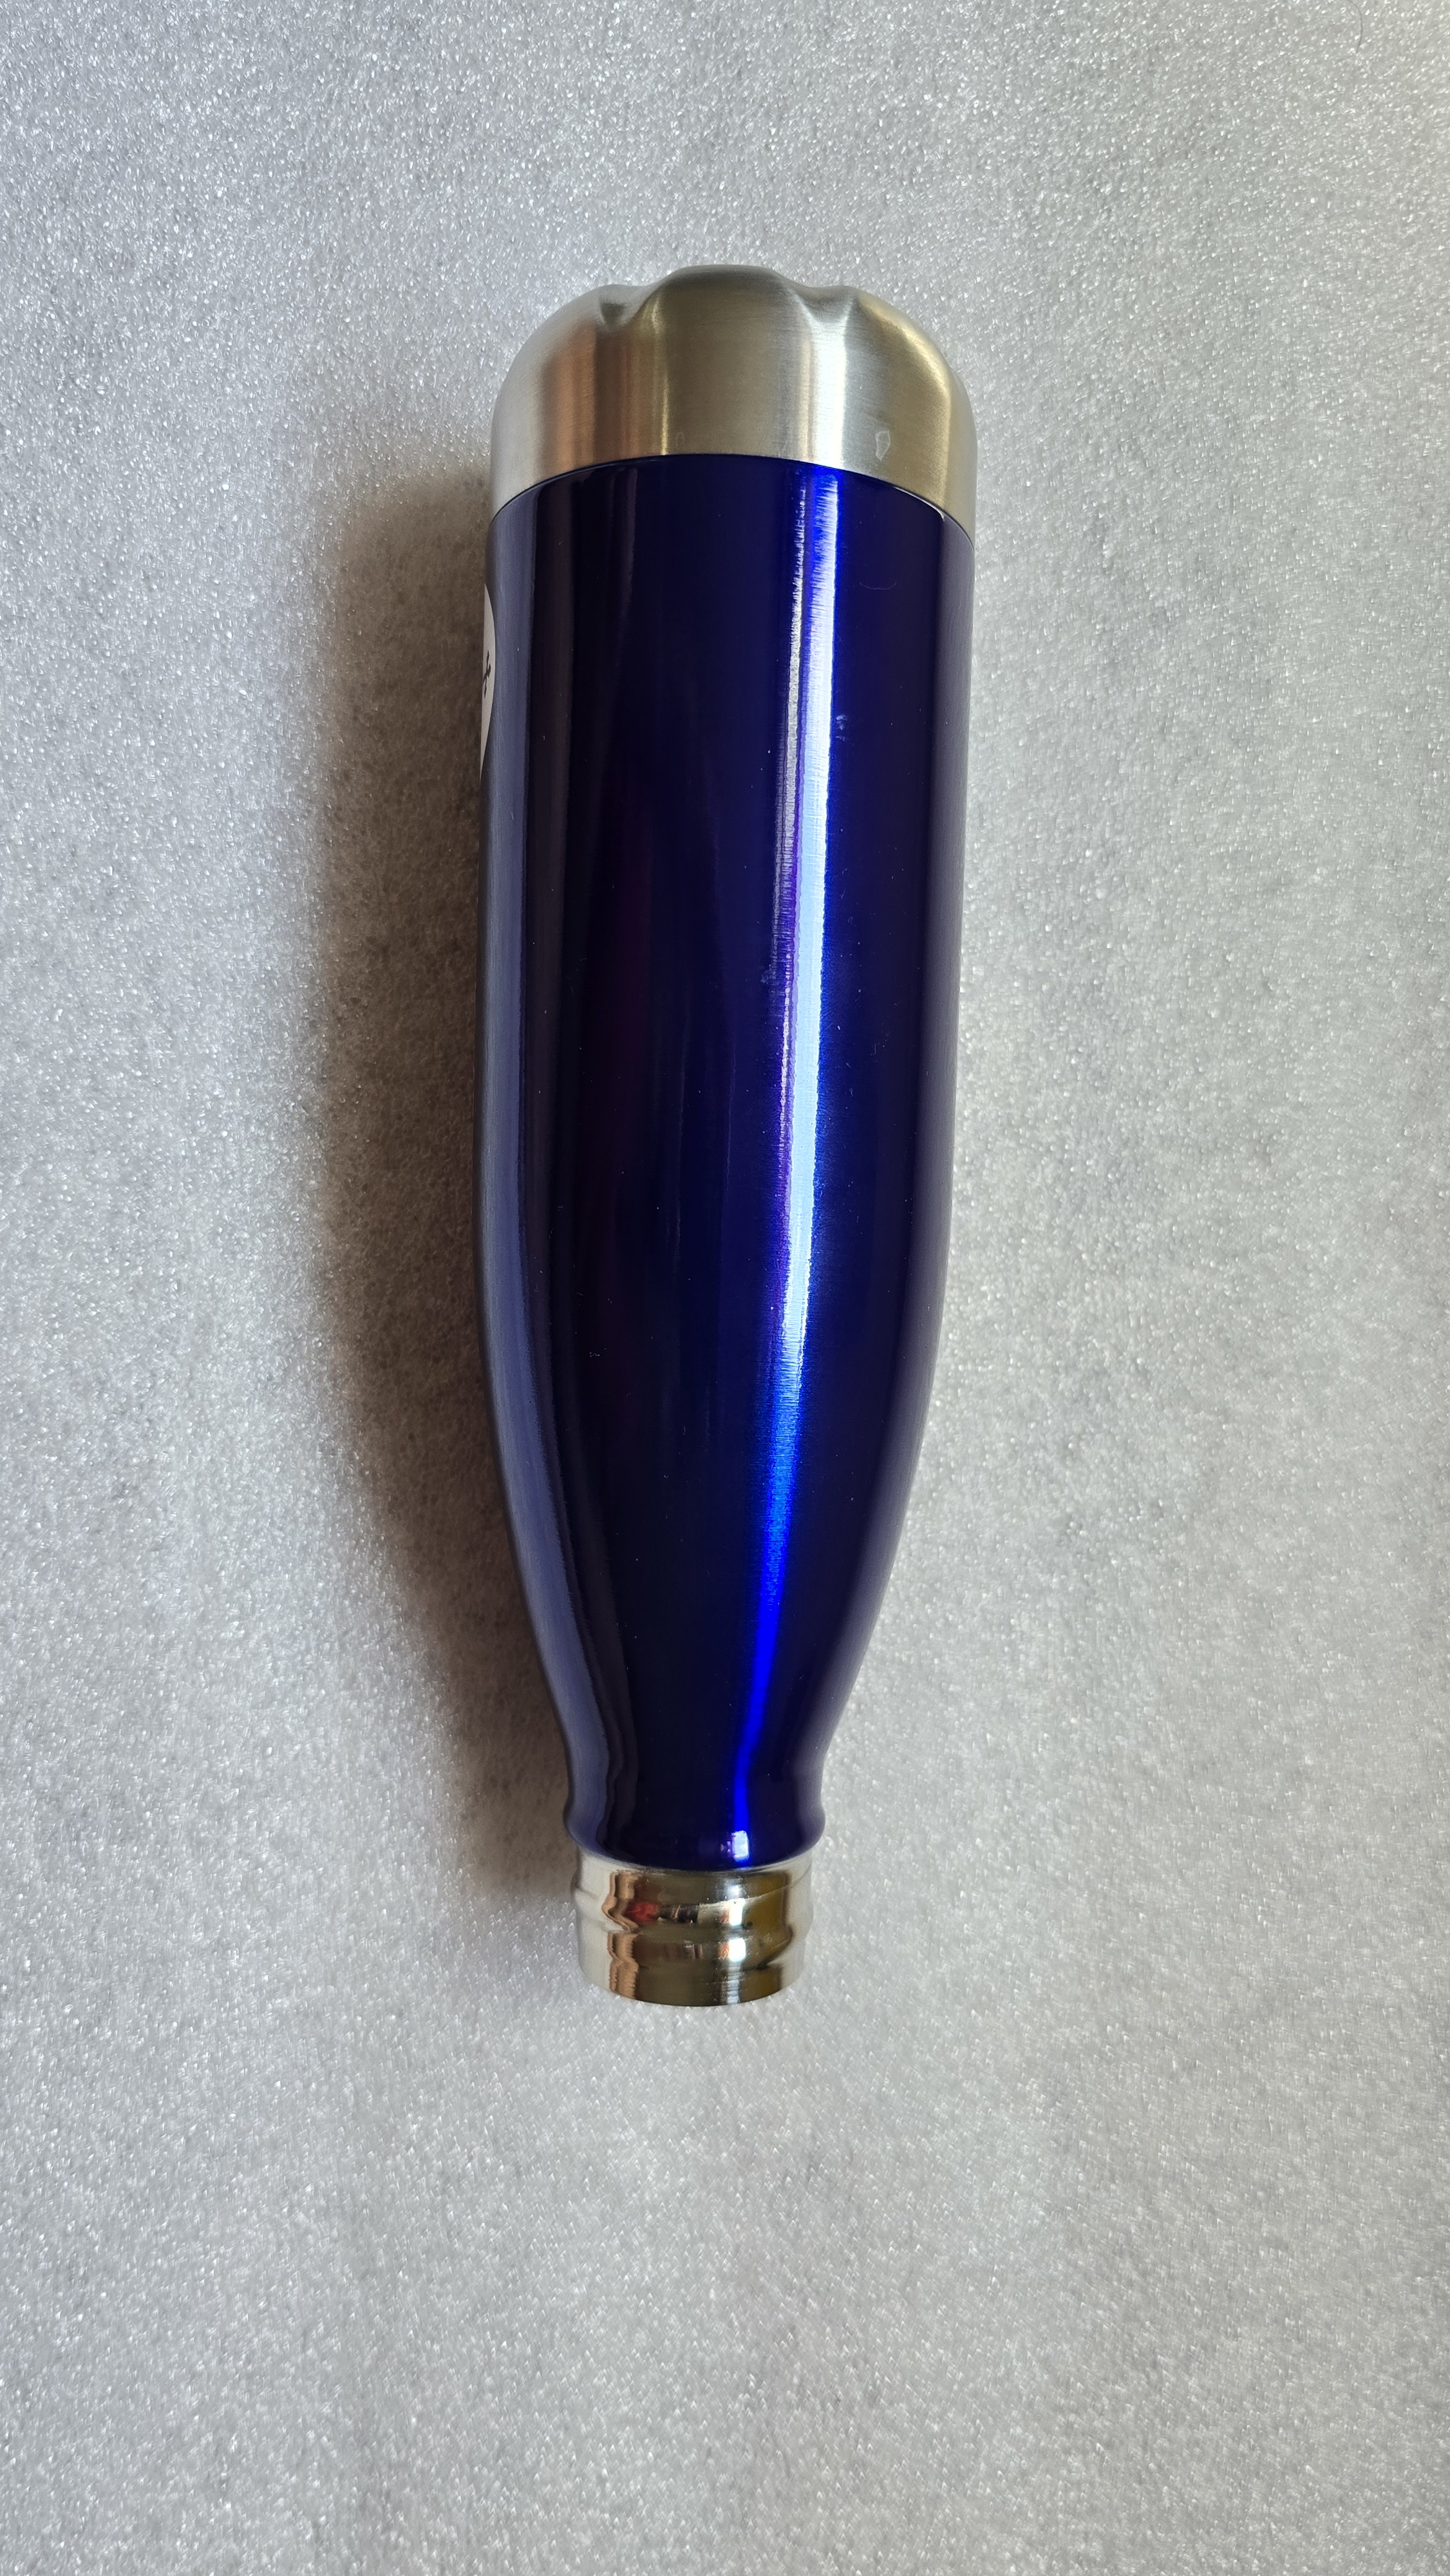bottle: (437, 239, 978, 2038)
